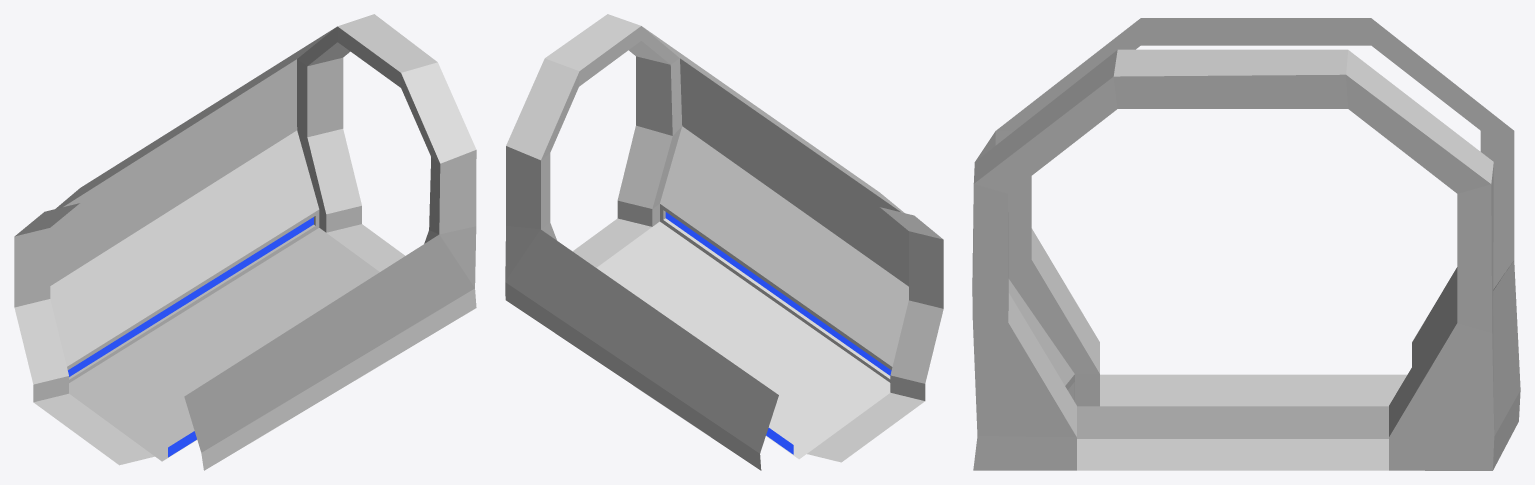
File: zone-portal-playa.glb
3 renders of one model, left to right at view 1: azimuth 30°, elevation 25°; view 2: azimuth 150°, elevation 25°; view 3: azimuth 270°, elevation 25°, orthographic. The views are drawn at different scales.
Parts seen in each view (by area): view 1: portal playa, lights portal playa; view 2: portal playa, lights portal playa; view 3: portal playa.
Boxes of the visible parts, bbox=[...] form: portal playa: bbox=[14, 14, 476, 470]; lights portal playa: bbox=[68, 217, 313, 457]; portal playa: bbox=[505, 14, 943, 470]; lights portal playa: bbox=[665, 212, 891, 454]; portal playa: bbox=[972, 18, 1520, 470].
Bounding box in the file's own units: 6.77 × 6.47 × 5.49.
